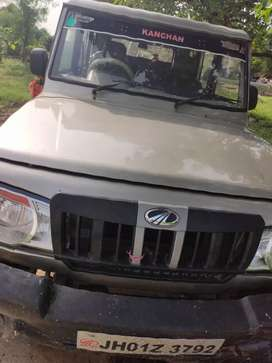JH01Z3792: (77, 328, 225, 356)
